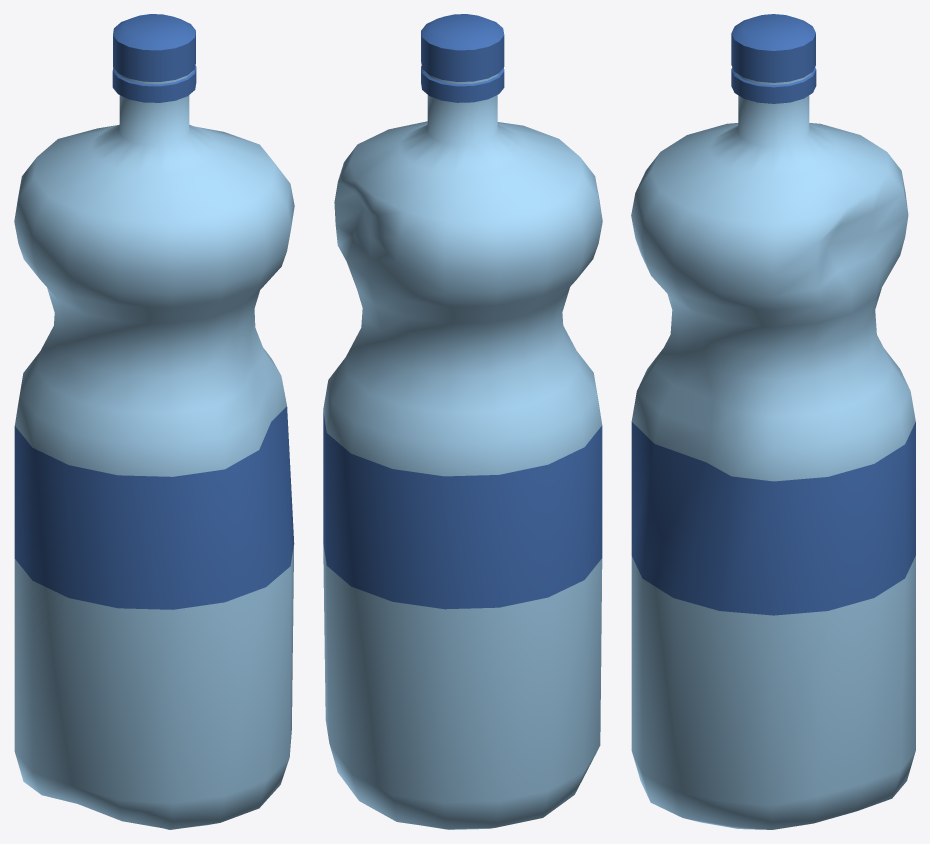
Rendered from plastic_bottle2.fbx.
3 renders of one model, left to right at view 1: azimuth 30°, elevation 25°; view 2: azimuth 150°, elevation 25°; view 3: azimuth 270°, elevation 25°, orthographic.
Visible parts, largest first — view 1: Cylinder.008; view 2: Cylinder.008; view 3: Cylinder.008.
Boxes of the visible parts, x1,y1,x2,y2 form: Cylinder.008: [14, 14, 294, 829]; Cylinder.008: [323, 14, 602, 829]; Cylinder.008: [631, 14, 915, 829].
Size of the model in its own units: 1.56 by 1.56 by 4.62.
